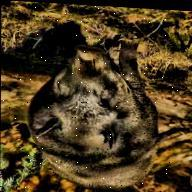boar: (39, 37, 160, 192)
